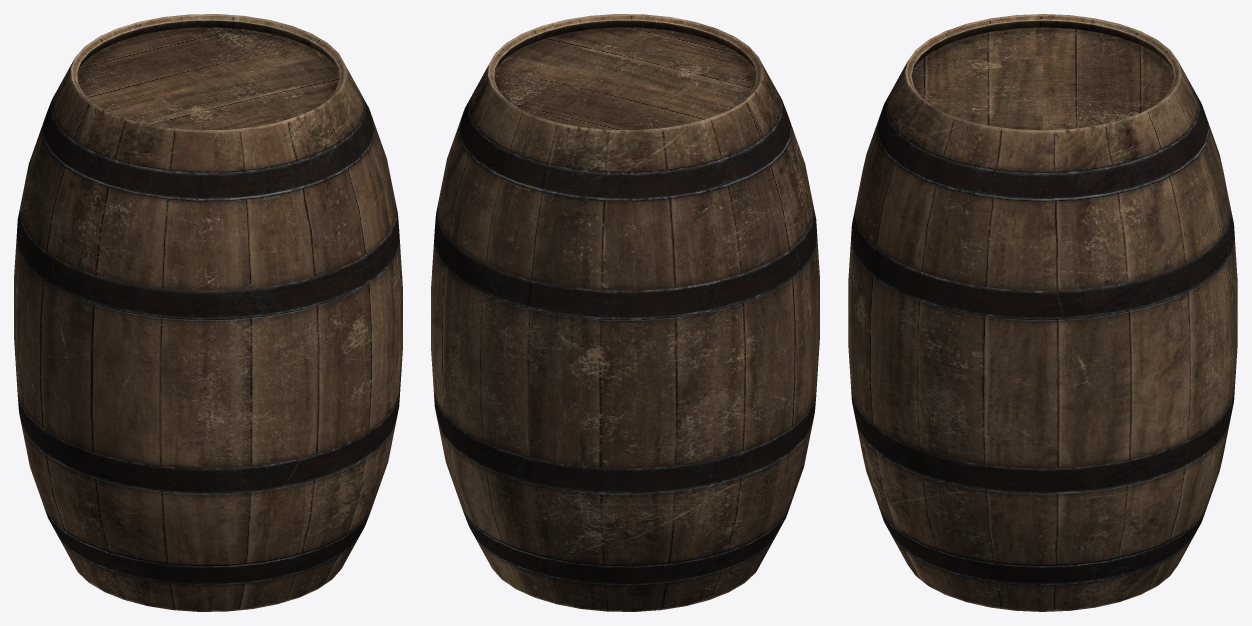
The model's file is SM_Barrel_01.glb.
3 views of the same model, side by side, from view 1: azimuth 30°, elevation 25°; view 2: azimuth 150°, elevation 25°; view 3: azimuth 270°, elevation 25° (orthographic).
Parts seen in each view (by area): view 1: SM_Barrel_01; view 2: SM_Barrel_01; view 3: SM_Barrel_01.
Boxes of the visible parts, x1,y1,x2,y2 form: SM_Barrel_01: (14, 14, 402, 611); SM_Barrel_01: (431, 14, 819, 611); SM_Barrel_01: (848, 14, 1237, 611).
Size of the model in its own units: 0.8008 by 1.09 by 0.8008.
1 material, 1 textured.
